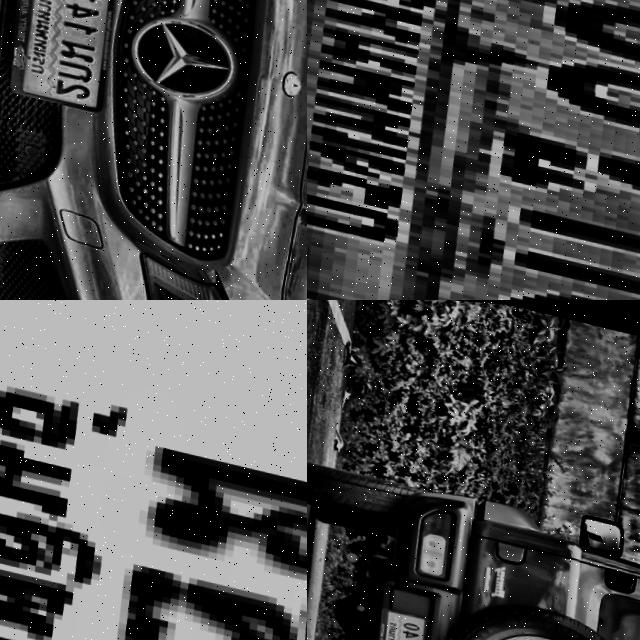license-plate: (0, 300, 307, 640), (307, 0, 640, 300), (0, 0, 125, 112), (362, 600, 431, 640)
